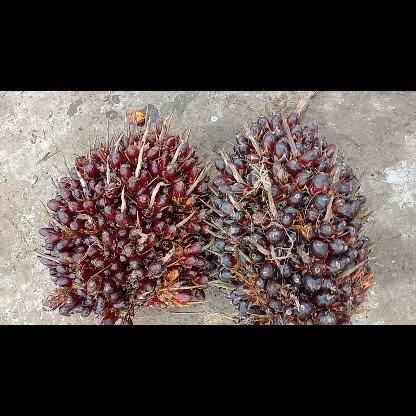Kurang masak: (211, 112, 373, 324)
TBS masak: (33, 115, 210, 324)
